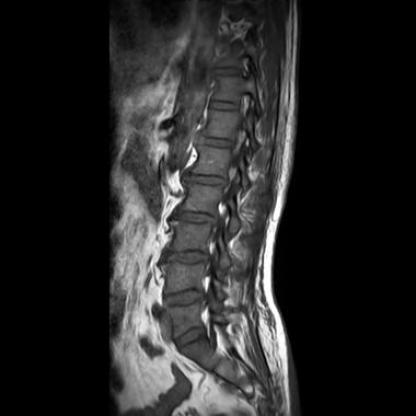Annular Tearrotation: (162, 286, 208, 310)
Disc Bulgerotation: (162, 286, 208, 310), (164, 244, 209, 268), (170, 206, 215, 229)
Disc Protrusionrotation: (183, 171, 229, 191)
